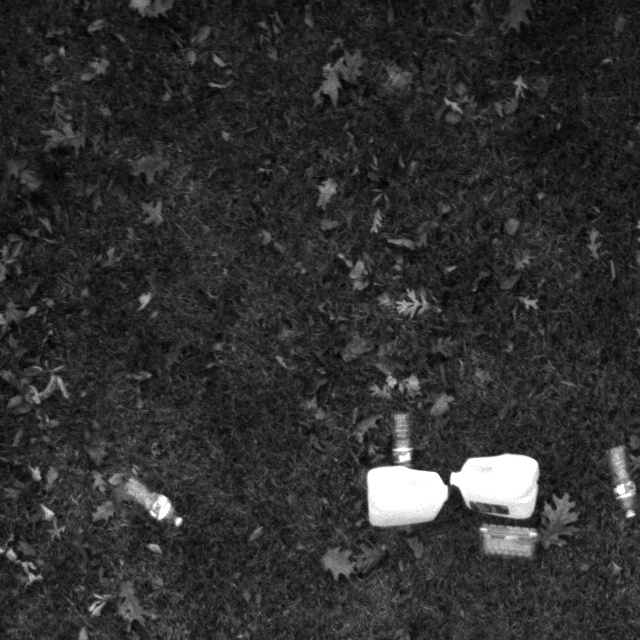bottle: (110, 469, 186, 531), (388, 409, 419, 469)
can: (443, 442, 543, 519), (362, 456, 453, 528)
container: (469, 516, 550, 563)
